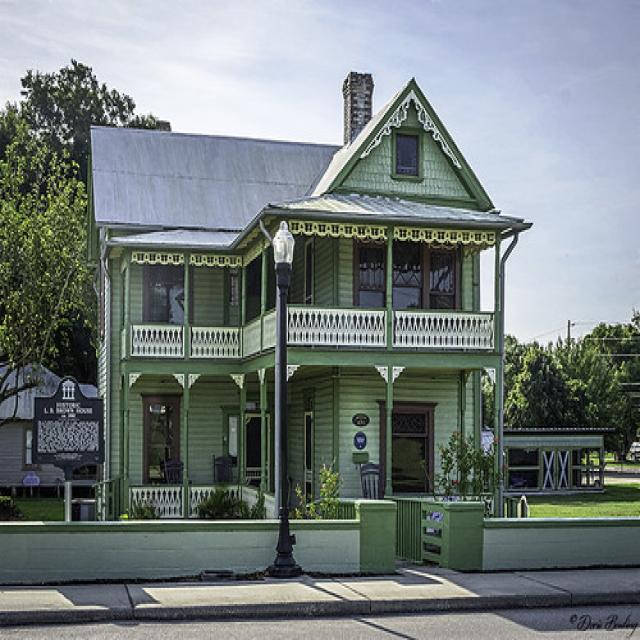building: (76, 65, 535, 568)
